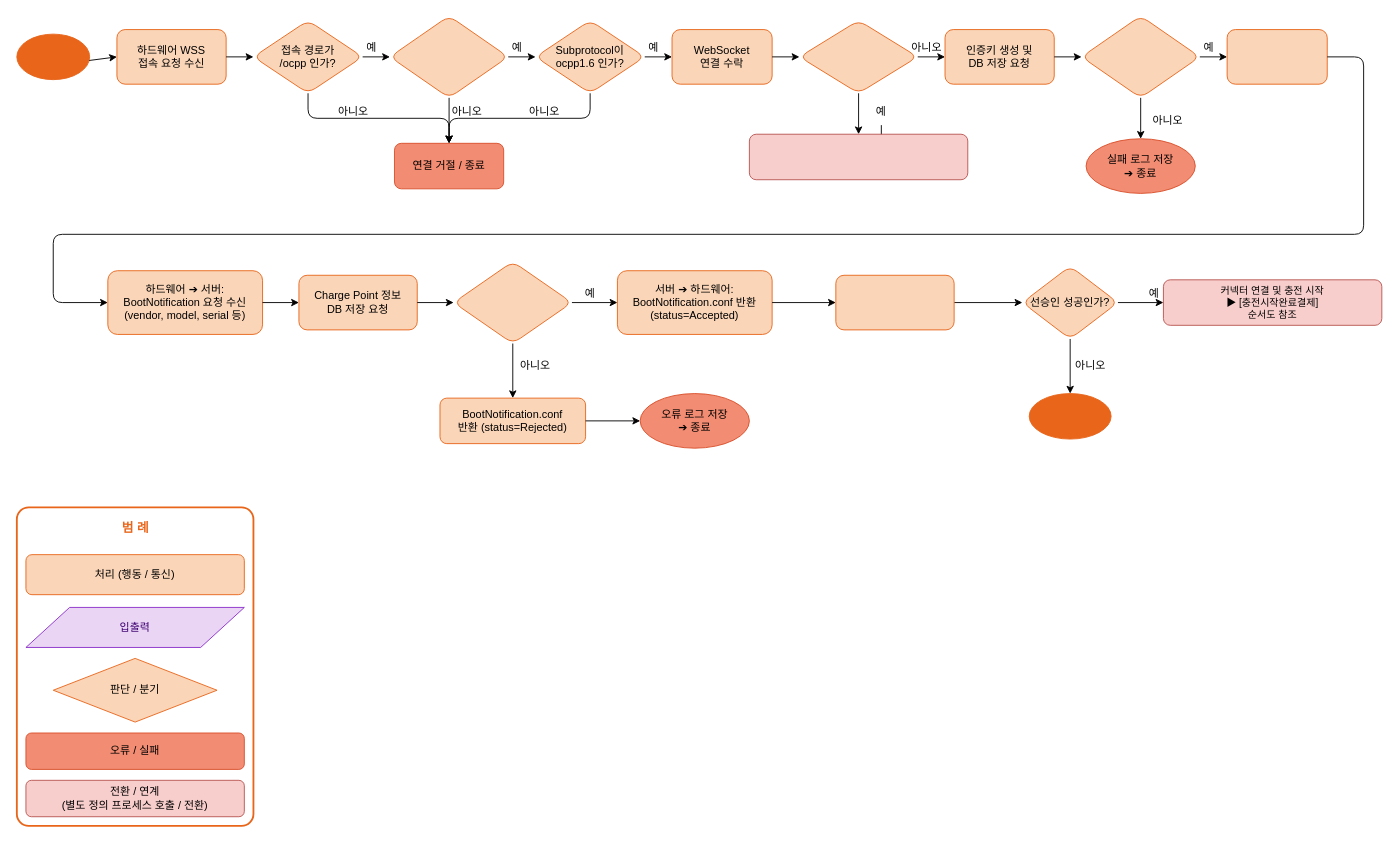
This 1398x843 diagram has some shape labels left out. The centre of each missing label's shape, as x and y in pixels:
"Authorization Header 유효한가?" goes at point 448,56.
"CP 정보 DB 저장 성공인가?" goes at point 512,302.
"DB에 이미 등록된 장치인가?" goes at point 858,56.
"기존 장치 프로세스 (초기/재접속) ▶ [연결유지] / [연결 끊김 후 재접속] 순서도 참조" goes at point 858,156.
"사용자 QR 스캔 및 선승인 요청" goes at point 894,302.
"시작" goes at point 53,56.
"인증키 DB 저장 성공인가?" goes at point 1140,56.
"종료" goes at point 1069,416.
"하드웨어에 인증키 전달" goes at point 1276,56.
